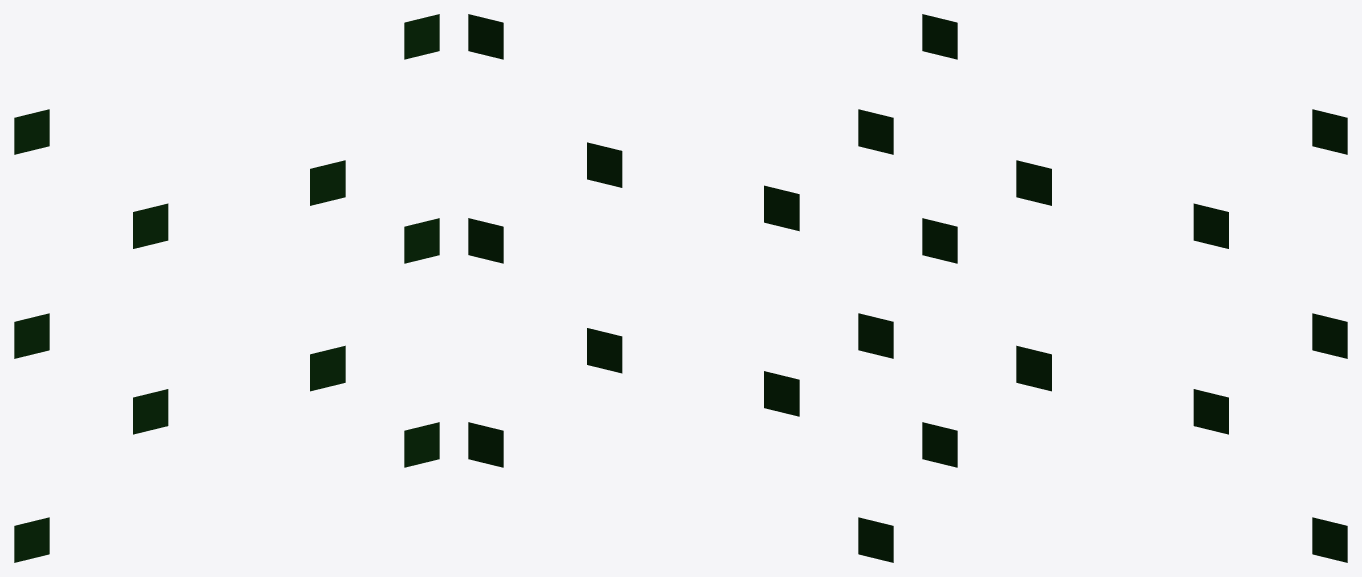
File: robocon_008.obj
3 renders of one model, left to right at view 1: azimuth 30°, elevation 25°; view 2: azimuth 150°, elevation 25°; view 3: azimuth 330°, elevation 25°, orthographic.
Size of the model in its own units: 6 by 6 by 0.299.
